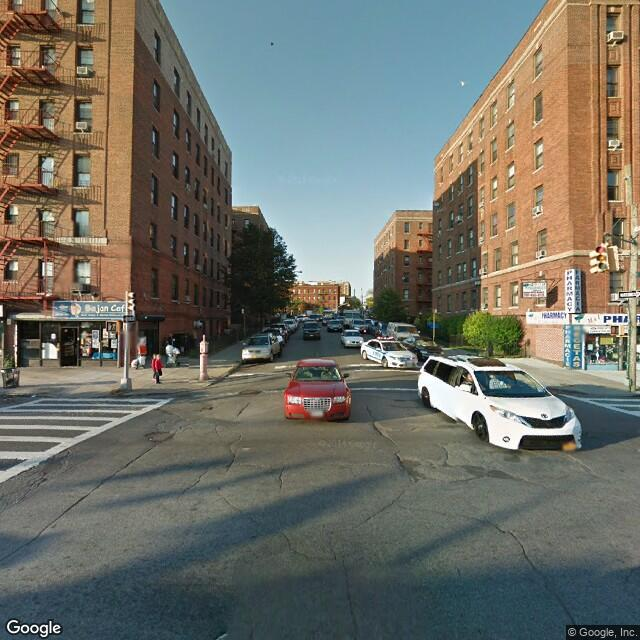litter: (25, 392, 40, 399)
